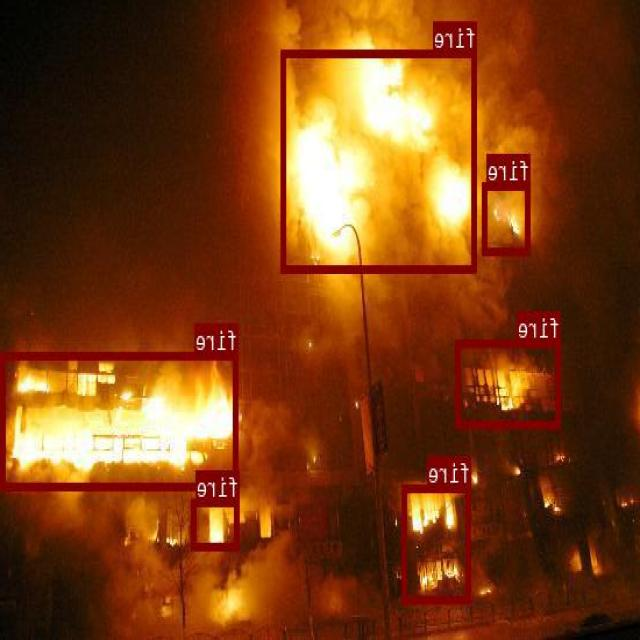fire: (282, 49, 477, 272), (2, 350, 239, 488), (456, 338, 562, 426), (403, 483, 472, 602), (484, 182, 531, 253), (193, 498, 240, 549)
